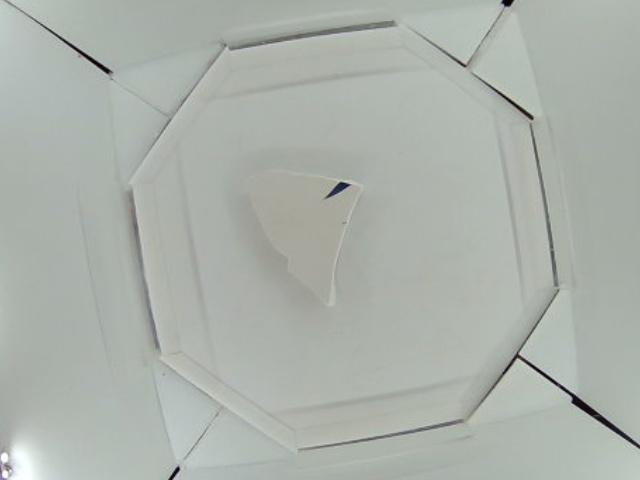China: (241, 168, 361, 305)
